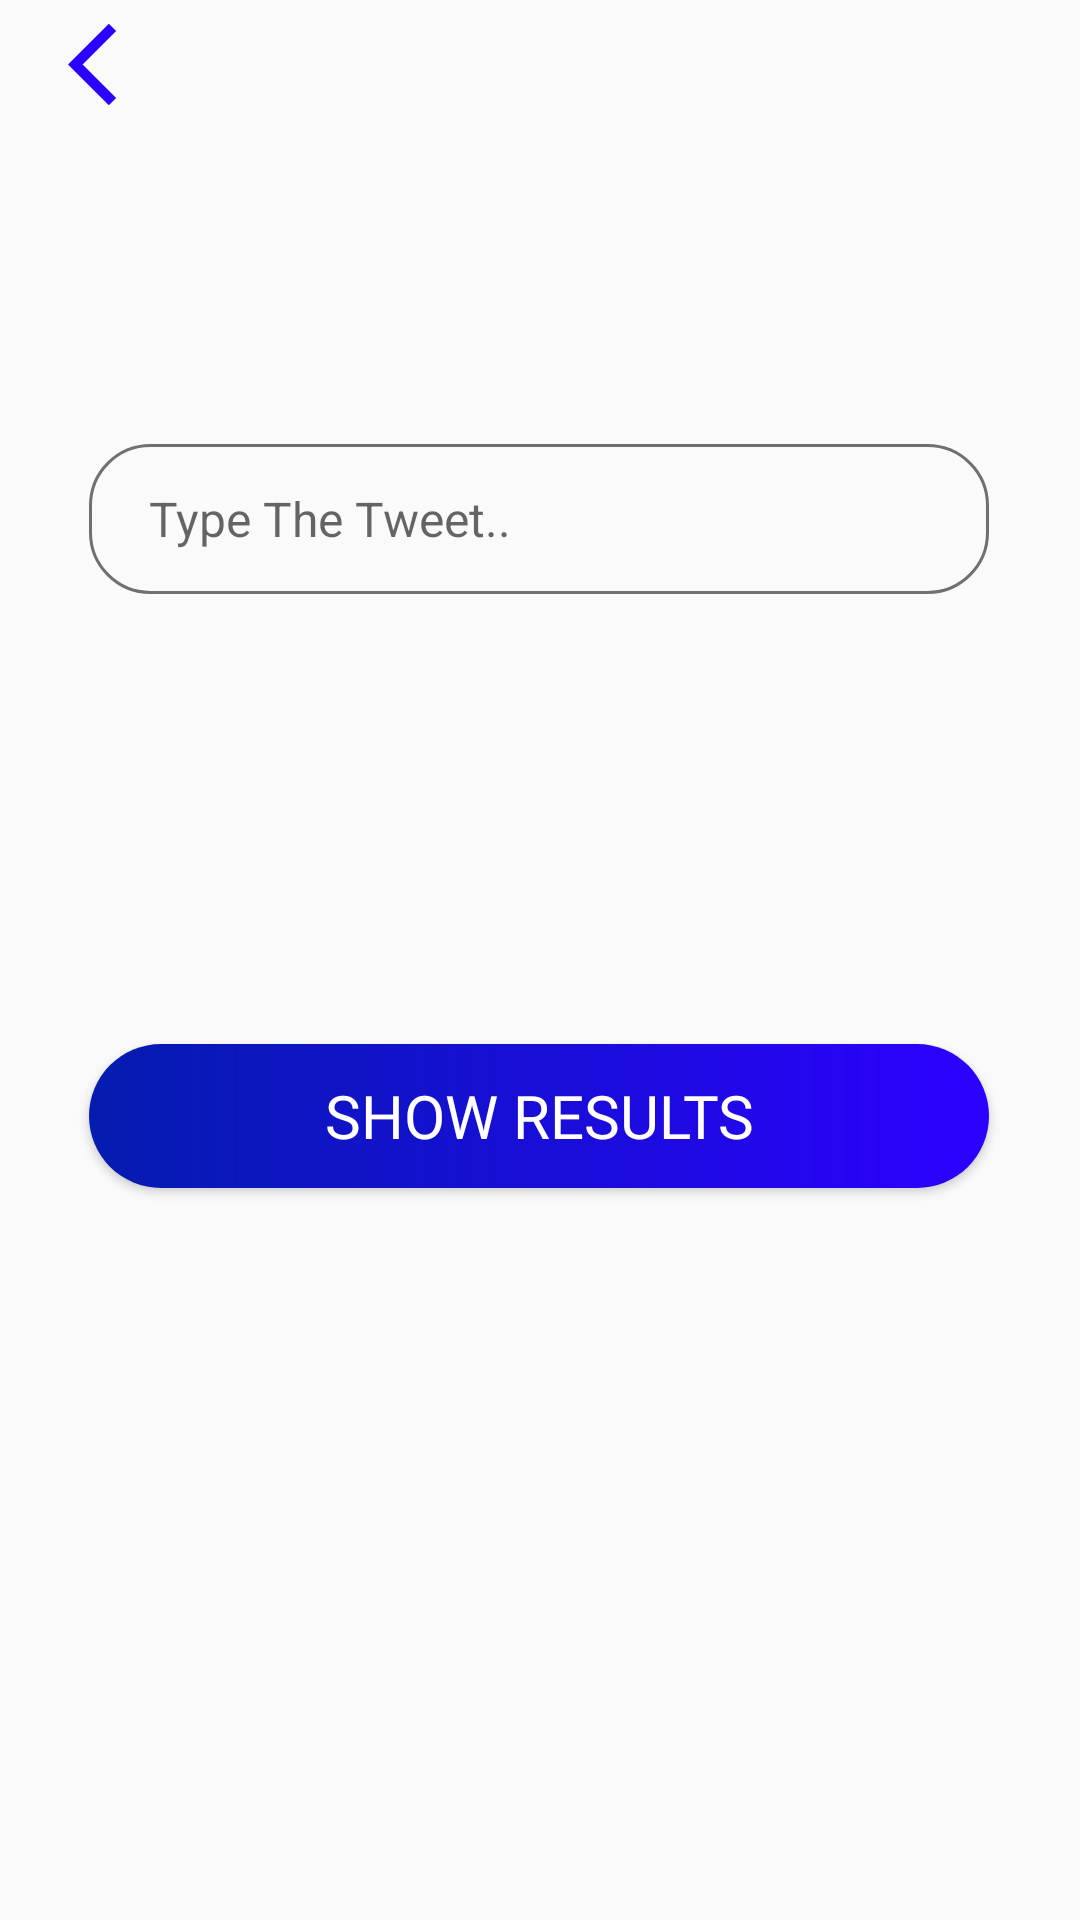

Icons on this 1080×1920 Android screen, each with the point to tap as [x,y]:
arrow back: [92,64]
